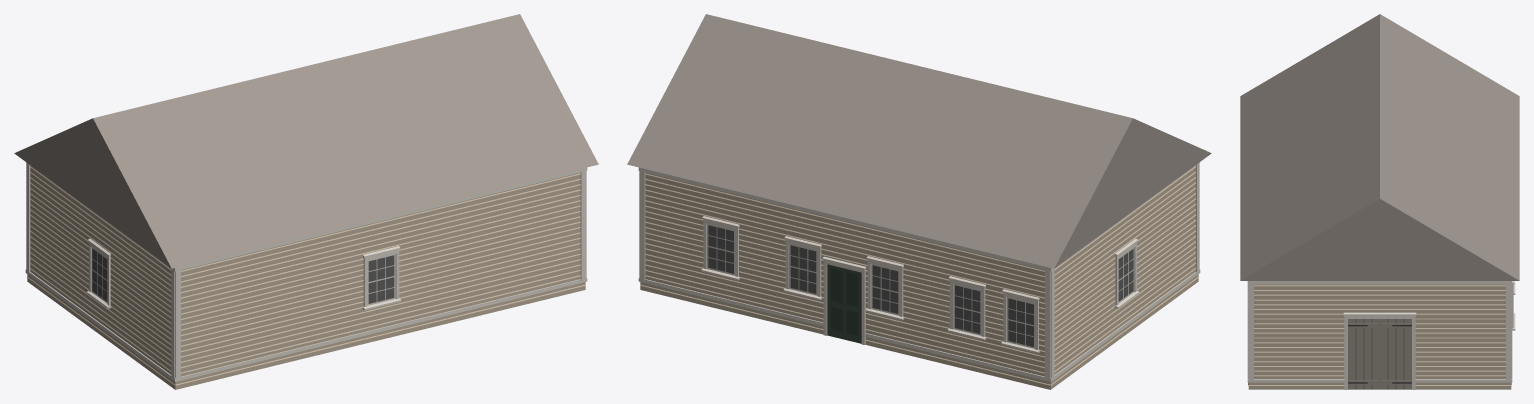
File: dole_warehouse_south__frame_1832.glb
The picture shows the model from 3 angles, left to right: view 1: azimuth 30°, elevation 25°; view 2: azimuth 150°, elevation 25°; view 3: azimuth 270°, elevation 25°; orthographic projection. The views are drawn at different scales.
Visible parts, largest first — view 1: dole_warehouse_south__frame_1832; view 2: dole_warehouse_south__frame_1832; view 3: dole_warehouse_south__frame_1832.
Part boxes in pixels (x1,y1,x2,y2): dole_warehouse_south__frame_1832: [14, 14, 598, 389]; dole_warehouse_south__frame_1832: [627, 14, 1211, 389]; dole_warehouse_south__frame_1832: [1240, 14, 1519, 389].
Size of the model in its own units: 12.69 by 6.24 by 8.12.
